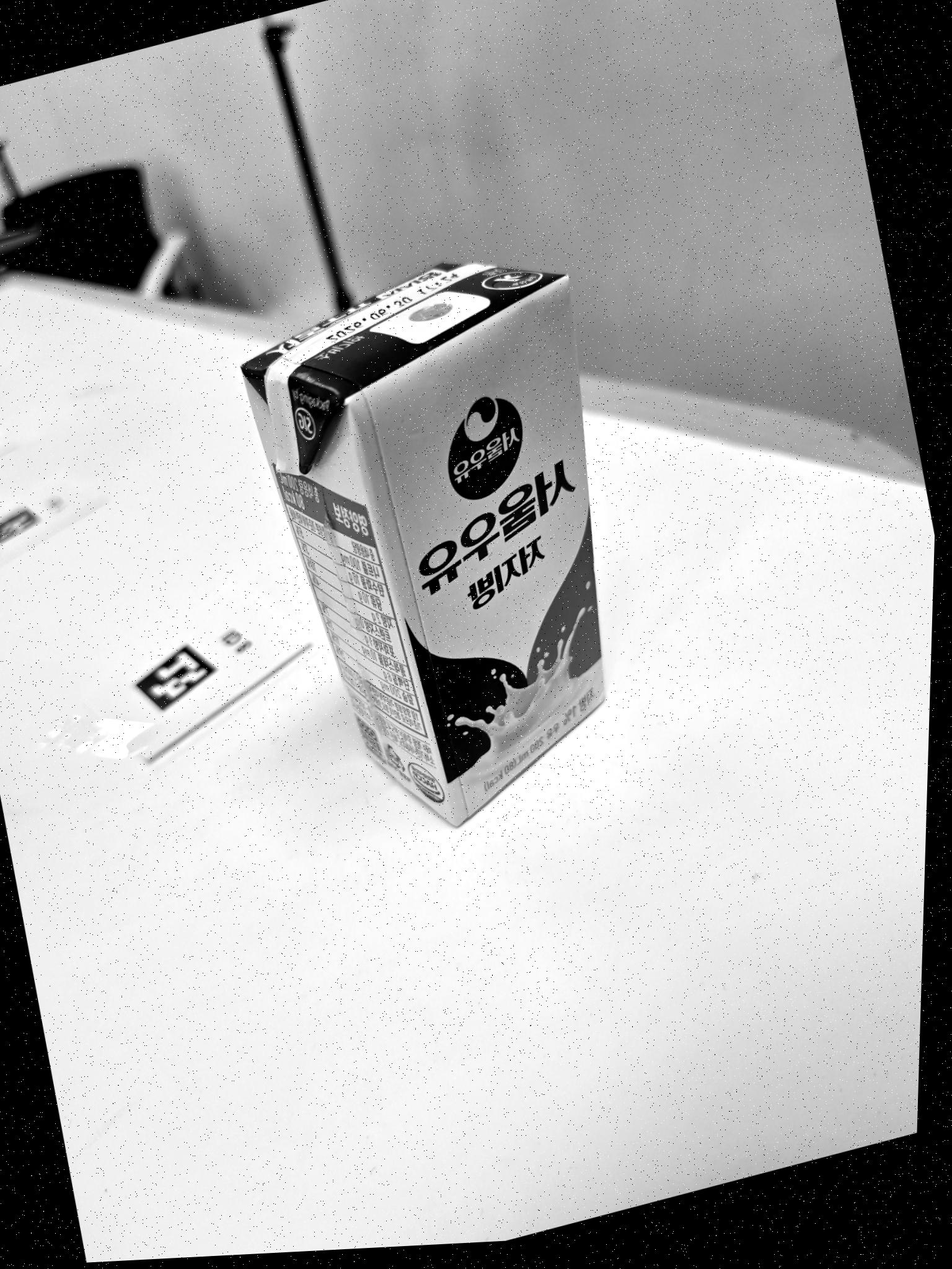milk_blue: (239, 255, 608, 821)
